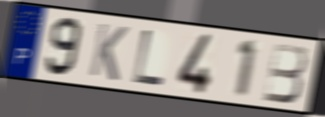1: (234, 38, 258, 100)
4: (175, 31, 214, 95)
9: (45, 16, 84, 77)
B: (262, 41, 309, 105)
K: (87, 21, 130, 84)
L: (130, 27, 167, 88)
